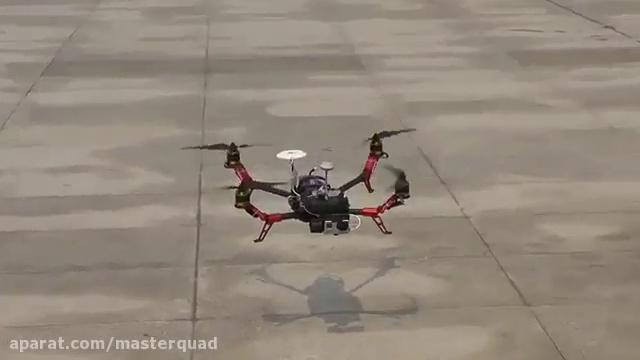drone: (176, 122, 420, 248)
